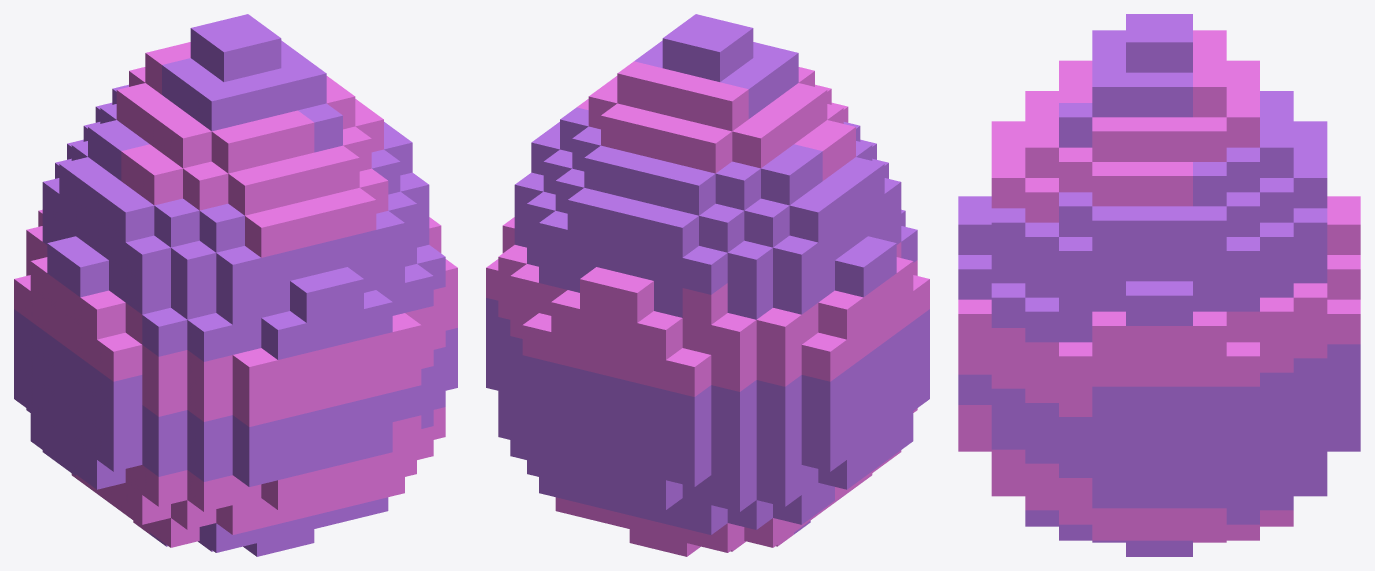
The model's file is Candy_Egg.glb.
3 renders of one model, left to right at view 1: azimuth 30°, elevation 25°; view 2: azimuth 150°, elevation 25°; view 3: azimuth 270°, elevation 25°, orthographic.
Parts seen in each view (by area): view 1: Cube_copy_copy_copy_copy_copy_copy_copy_copy_copy_copy_copy_ (×71), Cube_copy_1, Cube_copy_copy_copy_6, Cube_copy_copy_copy, Cube_copy_copy_copy_copy_copy_copy_copy_copy_copy, Cube_copy_copy_copy_9, Cube_copy_copy_copy_copy_copy_5, Cube_copy_4, Cube_copy_copy_copy_2, Cube_copy_copy_copy_copy_copy_copy_copy_copy_1, Cube_copy_copy_copy_copy_copy_8, Cube_copy_copy_copy_copy_copy_copy_6 (+59 smaller); view 2: Cube_copy_copy_copy_copy_copy_copy_copy_copy_copy_copy_copy_ (×71), Cube, Cube_copy_copy_copy_copy_copy_15, Cube_copy_copy_1, Cube_copy_copy_copy_copy_copy_17, Cube_copy_copy_copy_copy_copy_copy_copy_25, Cube_copy_copy_copy_20, Cube_copy_copy_4, Cube_copy_copy_copy_copy_copy_copy_copy_21, Cube_copy_copy_copy_copy_copy_copy_24, Cube_copy_copy_copy_copy_copy_copy_21, Cube_copy_copy_copy_copy_copy_copy_copy_copy_22 (+59 smaller); view 3: Cube_copy_copy_copy_copy_copy_copy_copy_copy_copy_copy_copy_ (×99), Cube_copy_copy_copy_copy_copy_copy_12, Cube_copy_copy_copy_copy_copy_copy_copy_copy_copy_copy_2, Cube_copy_copy_copy_copy_6, Cube_copy_5, Cube_copy_copy_12, Cube_copy_copy_copy_copy_copy_copy_19, Cube_copy_copy_copy_copy_18, Cube_copy_copy_8, Cube_copy_copy_copy_copy_4, Cube_copy_copy_copy_13, Cube_copy_copy_copy_copy_9 (+60 smaller).
Boxes of the visible parts, <box> form: Cube_copy_copy_copy_copy_copy_copy_copy_copy_copy_copy_copy_ (×71): <box>26,21,445,552</box>; Cube_copy_1: <box>80,290,125,339</box>; Cube_copy_copy_copy_6: <box>290,274,335,322</box>; Cube_copy_copy_copy: <box>63,248,108,297</box>; Cube_copy_copy_copy_copy_copy_copy_copy_copy_copy: <box>125,235,170,284</box>; Cube_copy_copy_copy_9: <box>232,348,277,396</box>; Cube_copy_copy_copy_copy_copy_5: <box>142,308,187,356</box>; Cube_copy_4: <box>261,311,306,359</box>; Cube_copy_copy_copy_2: <box>97,332,142,381</box>; Cube_copy_copy_copy_copy_copy_copy_copy_copy_1: <box>125,273,170,314</box>; Cube_copy_copy_copy_copy_copy_8: <box>232,415,277,456</box>; Cube_copy_copy_copy_copy_copy_copy_6: <box>142,405,187,446</box>; Cube_copy_copy_copy_copy_copy_copy_copy_copy_copy_copy_copy_ (×71): <box>510,21,884,552</box>; Cube: <box>818,290,863,339</box>; Cube_copy_copy_copy_copy_copy_15: <box>608,274,653,322</box>; Cube_copy_copy_1: <box>835,248,880,297</box>; Cube_copy_copy_copy_copy_copy_17: <box>666,348,711,396</box>; Cube_copy_copy_copy_copy_copy_copy_copy_25: <box>711,313,756,361</box>; Cube_copy_copy_copy_20: <box>637,311,682,359</box>; Cube_copy_copy_4: <box>801,332,846,381</box>; Cube_copy_copy_copy_copy_copy_copy_copy_21: <box>666,415,711,456</box>; Cube_copy_copy_copy_copy_copy_copy_24: <box>711,350,756,391</box>; Cube_copy_copy_copy_copy_copy_copy_21: <box>666,385,711,426</box>; Cube_copy_copy_copy_copy_copy_copy_copy_copy_22: <box>711,410,756,451</box>; Cube_copy_copy_copy_copy_copy_copy_copy_copy_copy_copy_copy_ (×99): <box>991,14,1327,556</box>; Cube_copy_copy_copy_copy_copy_copy_12: <box>991,283,1025,327</box>; Cube_copy_copy_copy_copy_copy_copy_copy_copy_copy_copy_2: <box>991,208,1025,252</box>; Cube_copy_copy_copy_copy_6: <box>958,299,991,344</box>; Cube_copy_5: <box>1092,311,1125,356</box>; Cube_copy_copy_12: <box>1193,311,1226,356</box>; Cube_copy_copy_copy_copy_copy_copy_19: <box>1260,297,1293,342</box>; Cube_copy_copy_copy_copy_18: <box>1327,299,1360,344</box>; Cube_copy_copy_8: <box>958,255,991,299</box>; Cube_copy_copy_copy_copy_4: <box>958,210,991,254</box>; Cube_copy_copy_copy_13: <box>1126,281,1159,325</box>; Cube_copy_copy_copy_copy_9: <box>1159,281,1192,325</box>.
Bounding box in the file's own units: 1.2 × 1.6 × 1.2.
